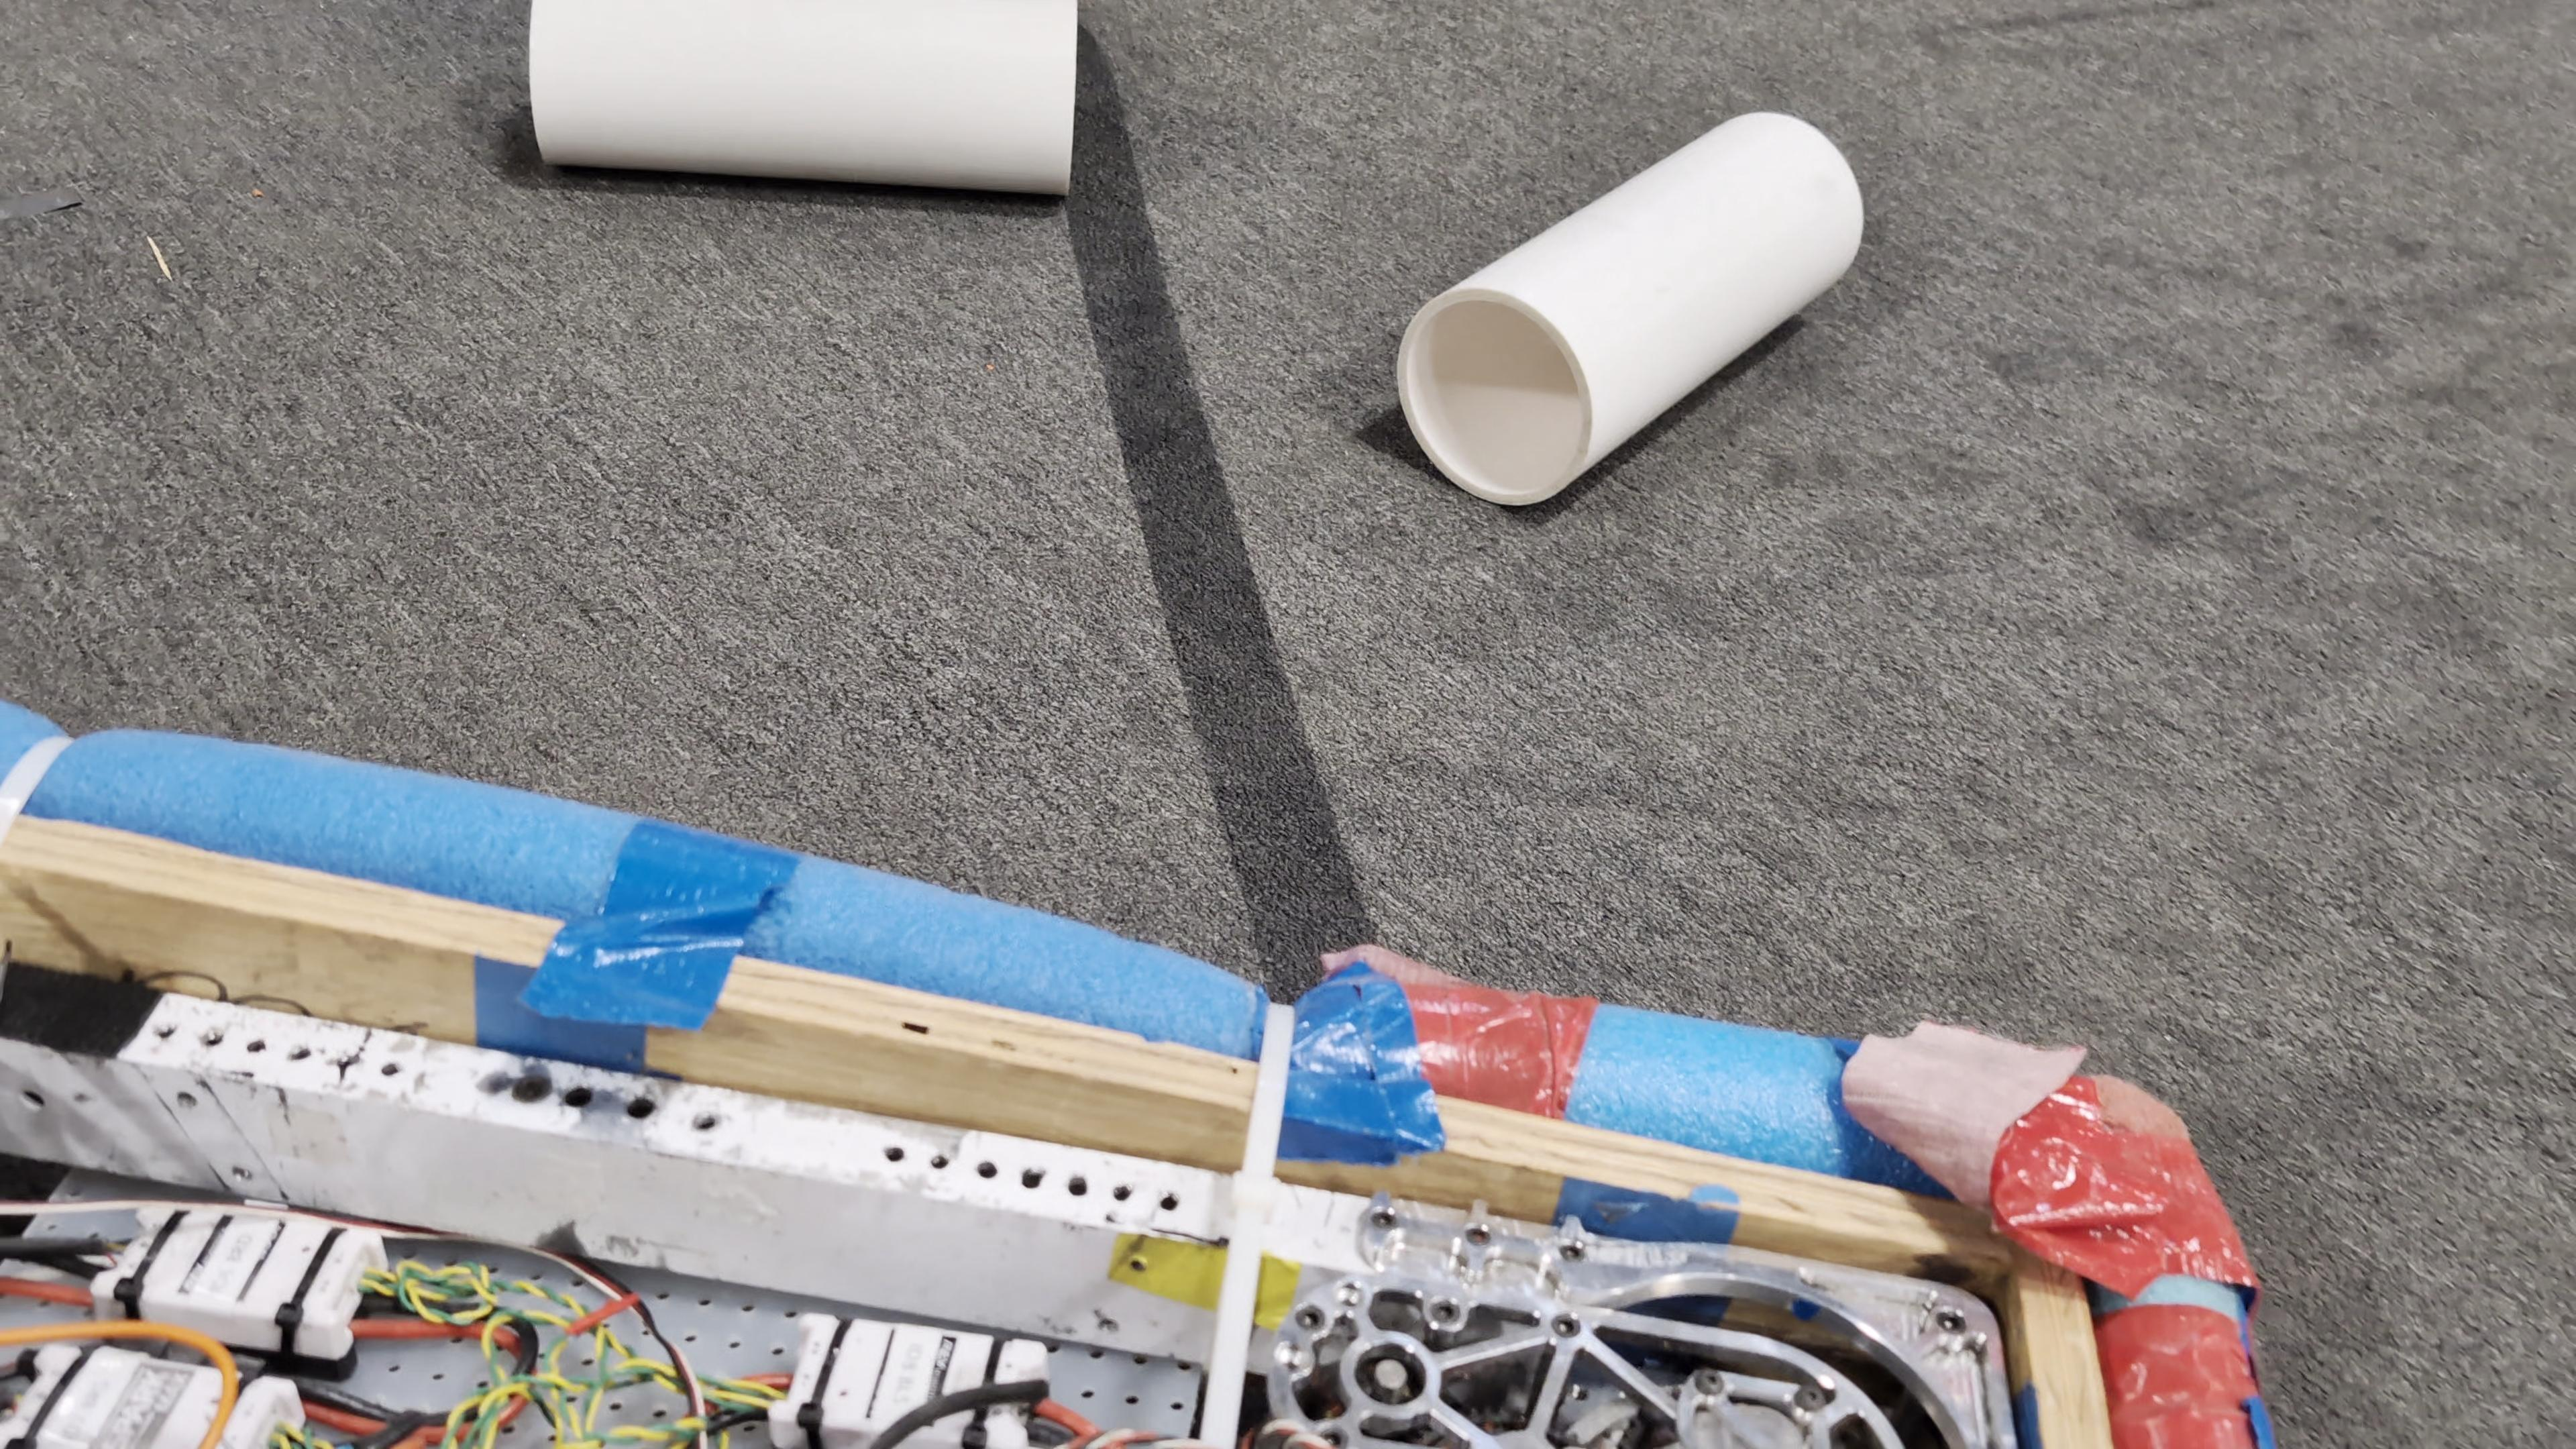coral: (1394, 105, 1866, 506), (527, 1, 1084, 197)
